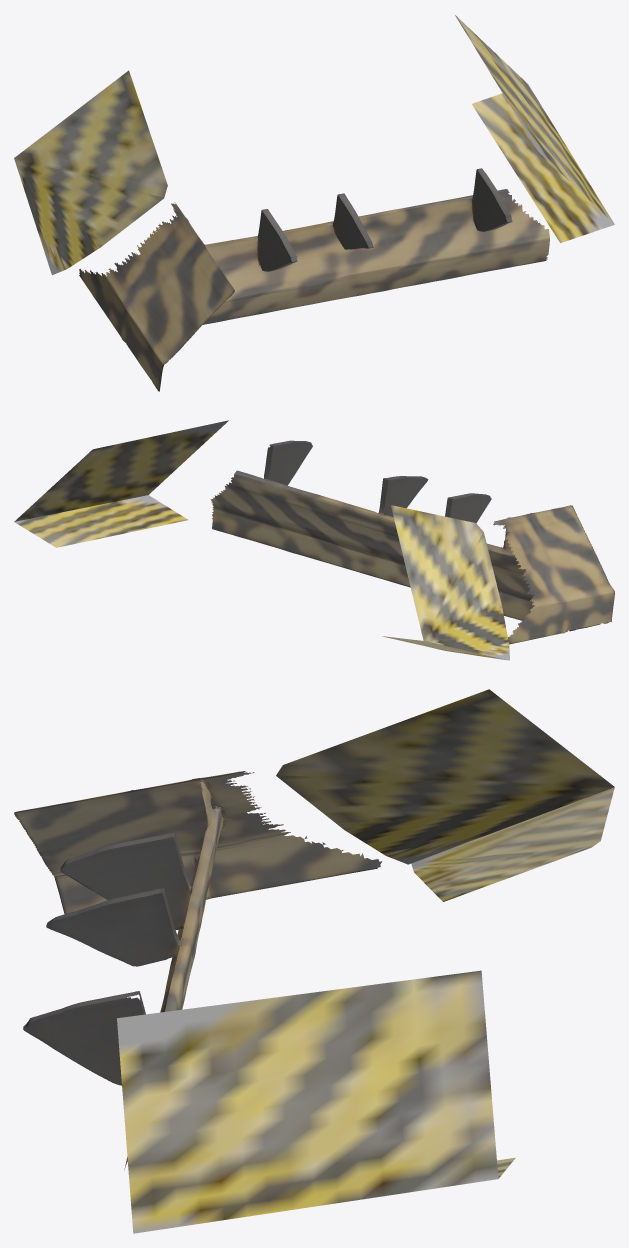
Rendered from guard-multi.glb.
The picture shows the model from 3 angles, top to bottom: view 1: azimuth 30°, elevation 25°; view 2: azimuth 150°, elevation 25°; view 3: azimuth 270°, elevation 25°; orthographic projection. The views are drawn at different scales.
Visible parts, largest first — view 1: center:geometry_0, left:v-guard-left-panel-1, right:v-guard-right-panel-2, right:v-guard-right-panel-1; view 2: center:geometry_0, left:v-guard-left-panel-1, right:v-guard-right-panel-1, right:v-guard-right-panel-2, left:v-guard-left-panel-2; view 3: right:v-guard-right-panel-1, center:geometry_0, left:v-guard-left-panel-1, left:v-guard-left-panel-2.
Part boxes in pixels (x1=…): center:geometry_0: x1=79, y1=168, x2=549, y2=391; left:v-guard-left-panel-1: x1=14, y1=70, x2=167, y2=275; right:v-guard-right-panel-2: x1=472, y1=93, x2=614, y2=242; right:v-guard-right-panel-1: x1=455, y1=15, x2=614, y2=223; center:geometry_0: x1=210, y1=440, x2=614, y2=644; left:v-guard-left-panel-1: x1=391, y1=505, x2=509, y2=660; right:v-guard-right-panel-1: x1=14, y1=420, x2=228, y2=521; right:v-guard-right-panel-2: x1=14, y1=495, x2=187, y2=547; left:v-guard-left-panel-2: x1=382, y1=636, x2=505, y2=659; right:v-guard-right-panel-1: x1=117, y1=970, x2=498, y2=1233; center:geometry_0: x1=14, y1=771, x2=382, y2=1169; left:v-guard-left-panel-1: x1=276, y1=689, x2=614, y2=864; left:v-guard-left-panel-2: x1=411, y1=787, x2=614, y2=901.
Bounding box in the file's own units: 3.1 × 1.16 × 2.02.
